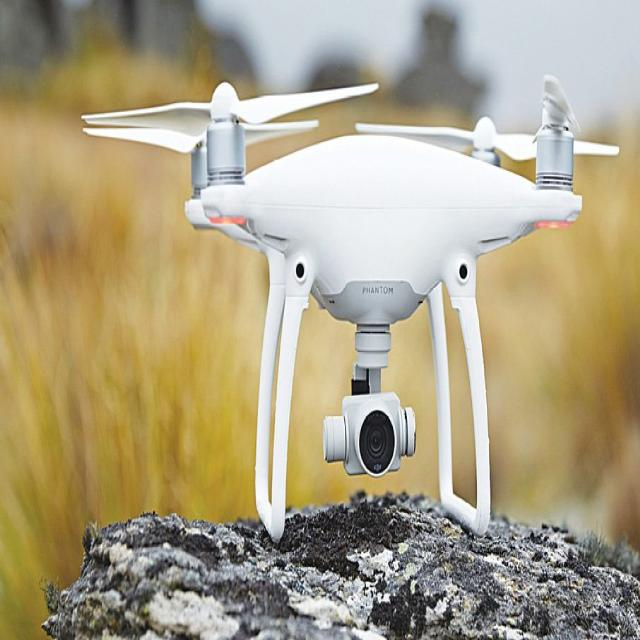drone: (79, 67, 621, 542)
